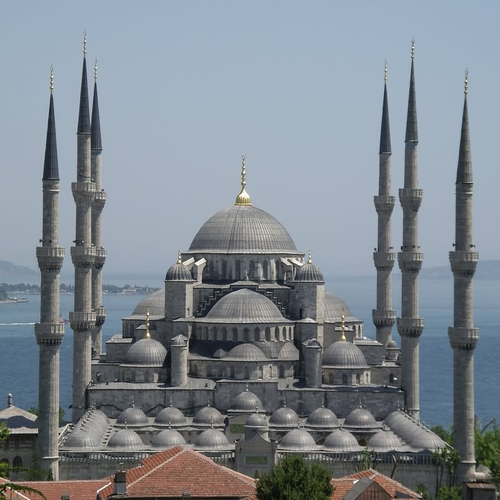Mosque: (34, 29, 484, 477)
